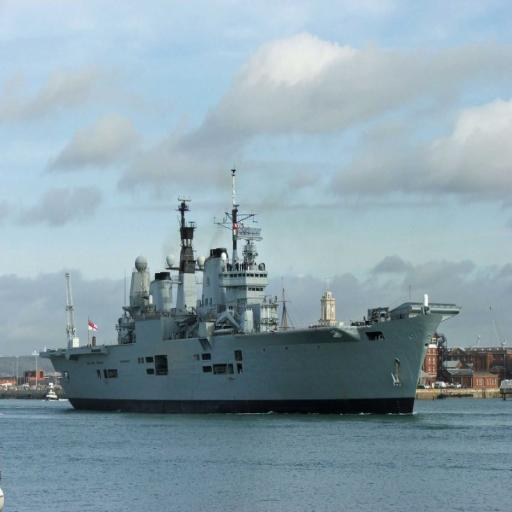Portanaves: (38, 168, 463, 419)
